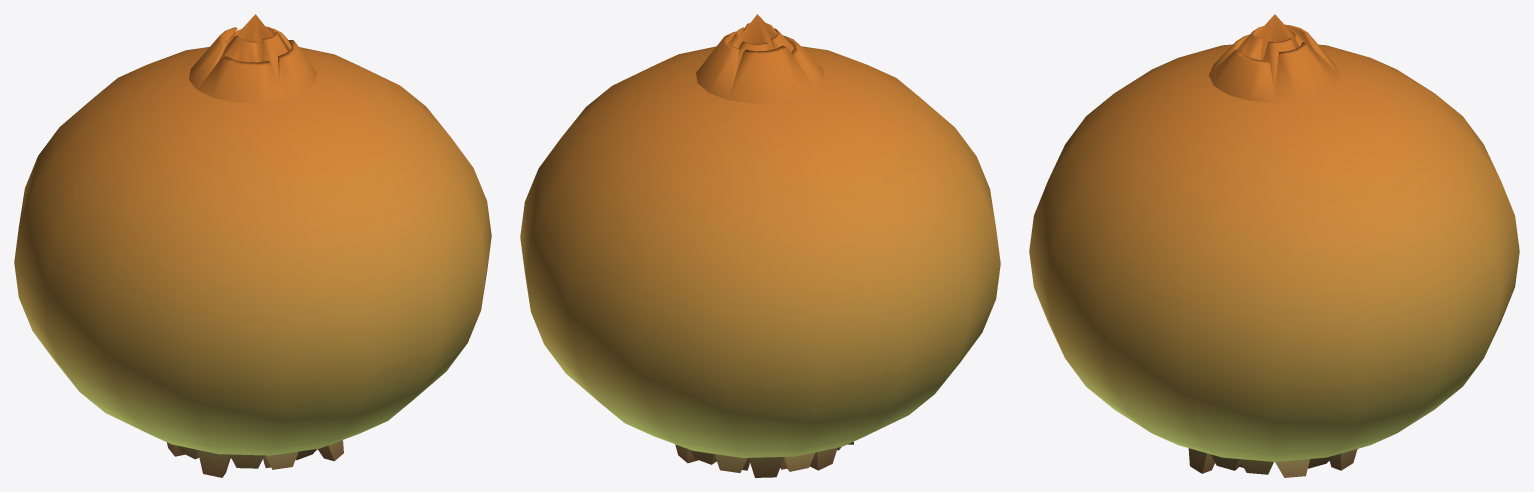
Rendered from onion.fbx.
The picture shows the model from 3 angles, left to right: view 1: azimuth 30°, elevation 25°; view 2: azimuth 150°, elevation 25°; view 3: azimuth 270°, elevation 25°; orthographic projection.
Visible parts, largest first — view 1: onion; view 2: onion; view 3: onion.
Part boxes in pixels (box(x1,y1,x2,y2)): onion: box(14, 14, 491, 477); onion: box(520, 14, 1000, 477); onion: box(1029, 14, 1519, 477).
Bounding box in the file's own units: 96.71 × 94.66 × 96.71.
